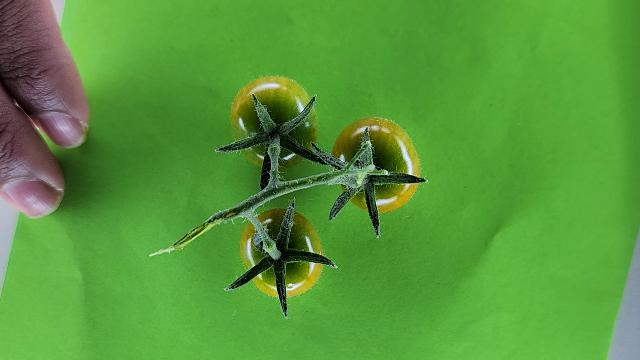Fully Grown: (230, 75, 320, 170), (331, 117, 421, 212), (239, 208, 324, 298)
